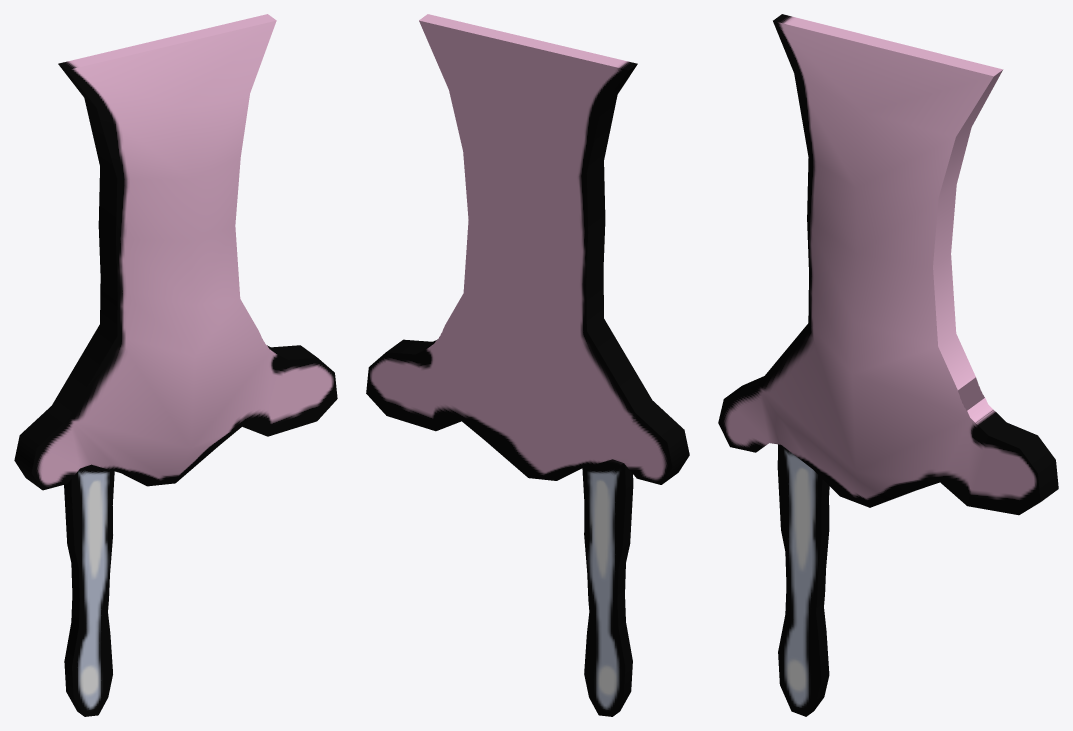
File: elf_nose.fbx
The picture shows the model from 3 angles, left to right: view 1: azimuth 30°, elevation 25°; view 2: azimuth 150°, elevation 25°; view 3: azimuth 330°, elevation 25°; orthographic projection. The views are drawn at different scales.
Visible parts, largest first — view 1: elf_nose; view 2: elf_nose; view 3: elf_nose.
Part boxes in pixels (x1,y1,x2,y2): elf_nose: [14, 14, 337, 716]; elf_nose: [366, 14, 689, 716]; elf_nose: [718, 14, 1058, 716].
Bounding box in the file's own units: 16.34 × 33.3 × 3.26.
Materials: 1 (1 with a texture image).
